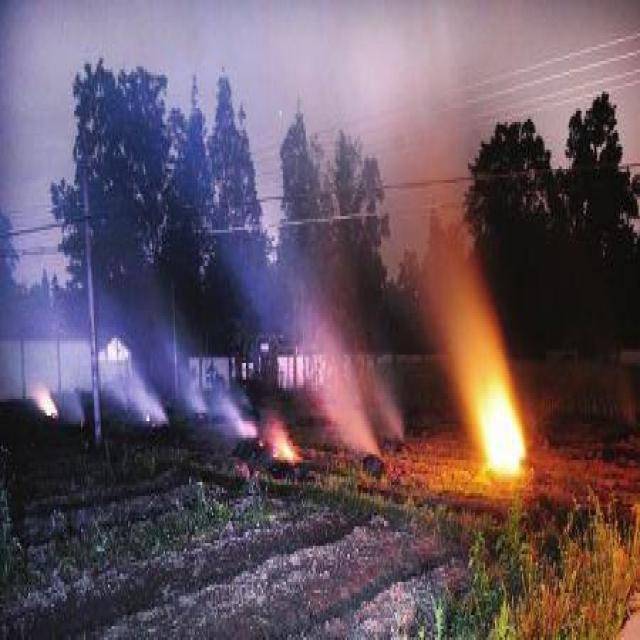fire: (467, 348, 529, 482), (268, 416, 296, 457), (232, 411, 261, 443), (36, 387, 62, 419)
smoke: (417, 221, 492, 382), (314, 341, 376, 438), (123, 367, 159, 417), (186, 376, 200, 409), (216, 389, 237, 407)
